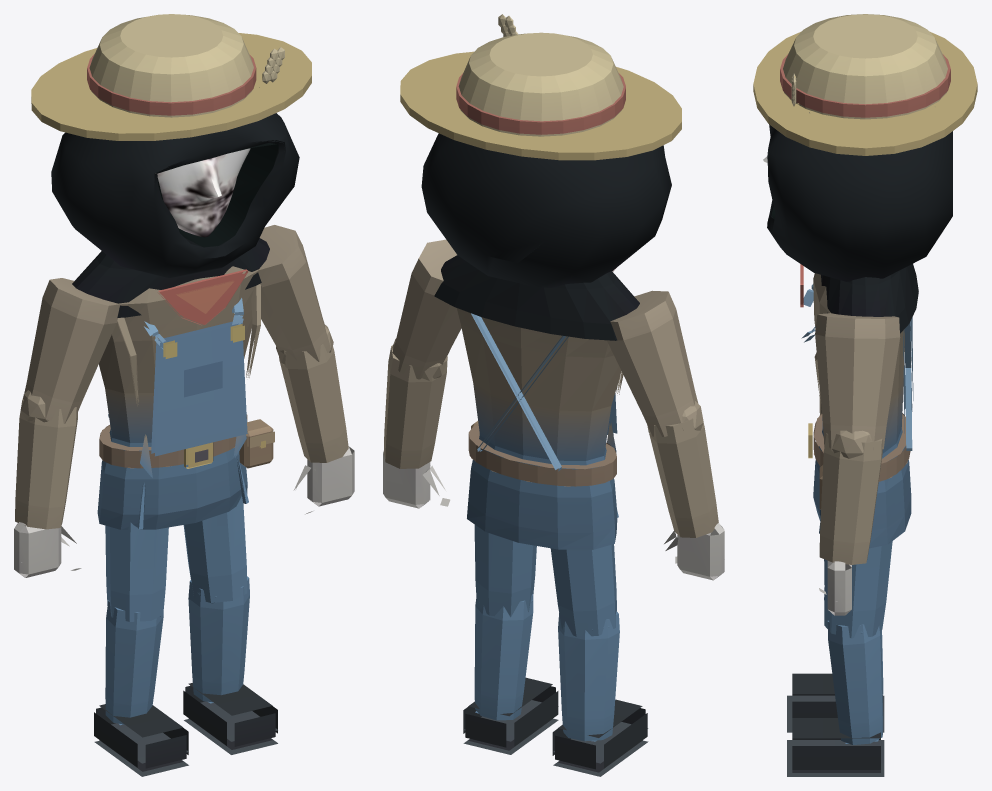
Rendered from HoodedStrangerFarmer.glb.
3 renders of one model, left to right at view 1: azimuth 30°, elevation 25°; view 2: azimuth 150°, elevation 25°; view 3: azimuth 270°, elevation 25°, orthographic.
Parts seen in each view (by area): view 1: Head, Body, ArmR, LegR, LegL, ArmL, HeadFace; view 2: Head, Body, ArmR, LegR, LegL, ArmL; view 3: Head, ArmL, LegL, Body, LegR.
Part boxes in pixels (x1,y1,x2,y2): Head: (31,14,311,317); Body: (97,266,274,529); ArmR: (14,278,119,577); LegR: (94,522,188,776); LegL: (183,496,277,754); ArmL: (258,225,354,514); HeadFace: (155,148,250,237); Head: (400,14,681,340); Body: (457,268,623,549); ArmR: (607,290,724,580); LegR: (550,544,648,776); LegL: (463,525,558,754); ArmL: (383,239,461,508); Head: (753,14,977,333); ArmL: (815,313,900,615); LegL: (787,541,892,776); Body: (800,264,913,548); LegR: (787,559,884,732).
Size of the model in its own units: 3.69 by 7.31 by 2.1.
2 materials, 1 textured.
